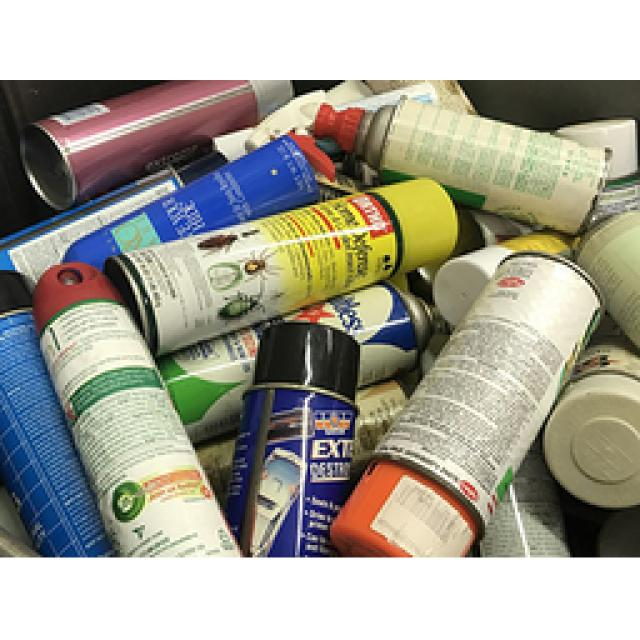alumunium: (10, 104, 640, 560)
